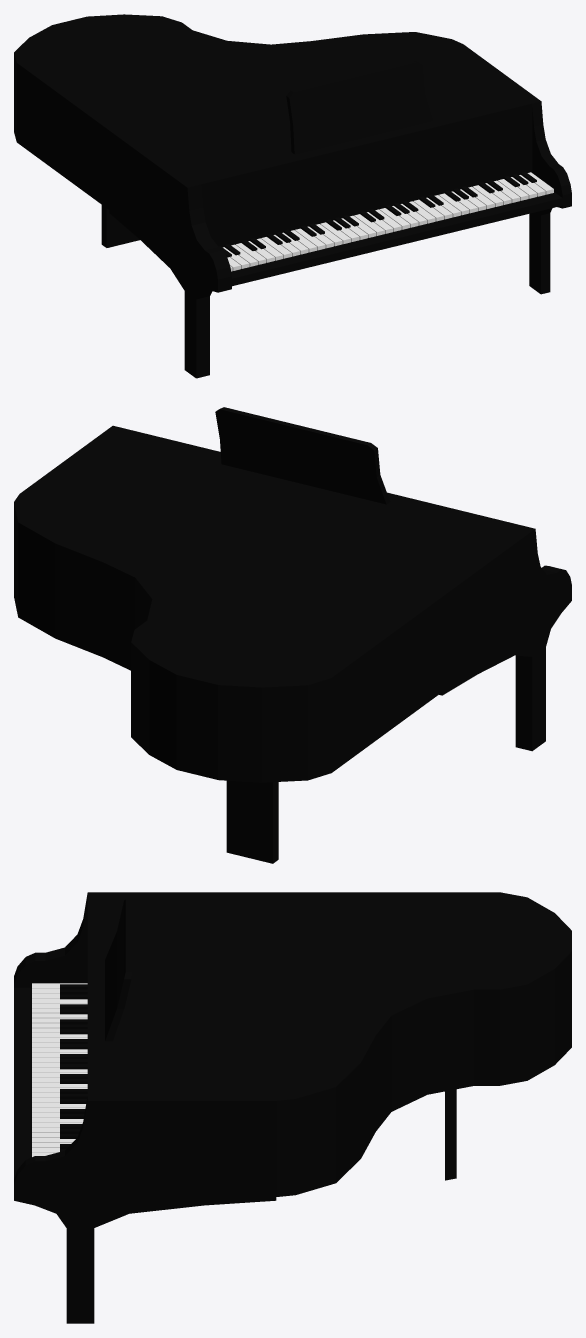
The model's file is Piano_Closed.fbx.
3 renders of one model, top to bottom at view 1: azimuth 30°, elevation 25°; view 2: azimuth 150°, elevation 25°; view 3: azimuth 270°, elevation 25°, orthographic. The views are drawn at different scales.
Parts seen in each view (by area): view 1: Piano, WhiteKeys, BlackKeys; view 2: Piano; view 3: Piano, WhiteKeys, BlackKeys.
Part boxes in pixels (x1,y1,x2,y2): Piano: (14,14,571,378); WhiteKeys: (223,172,553,271); BlackKeys: (218,171,536,257); Piano: (14,407,571,863); Piano: (14,892,571,1323); WhiteKeys: (32,983,87,1156); BlackKeys: (60,984,87,1151).
Bounding box in the file's own units: 151 × 97.34 × 171.
